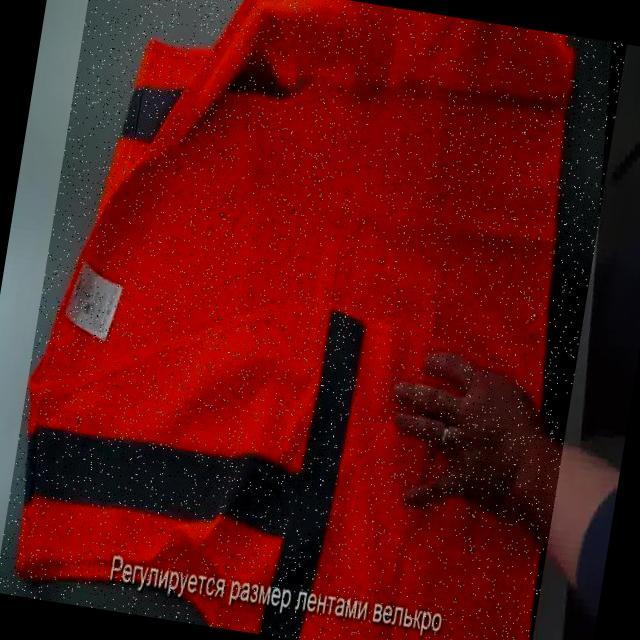Safety Vest: (0, 0, 626, 640)
bare-arms: (387, 326, 564, 530)
